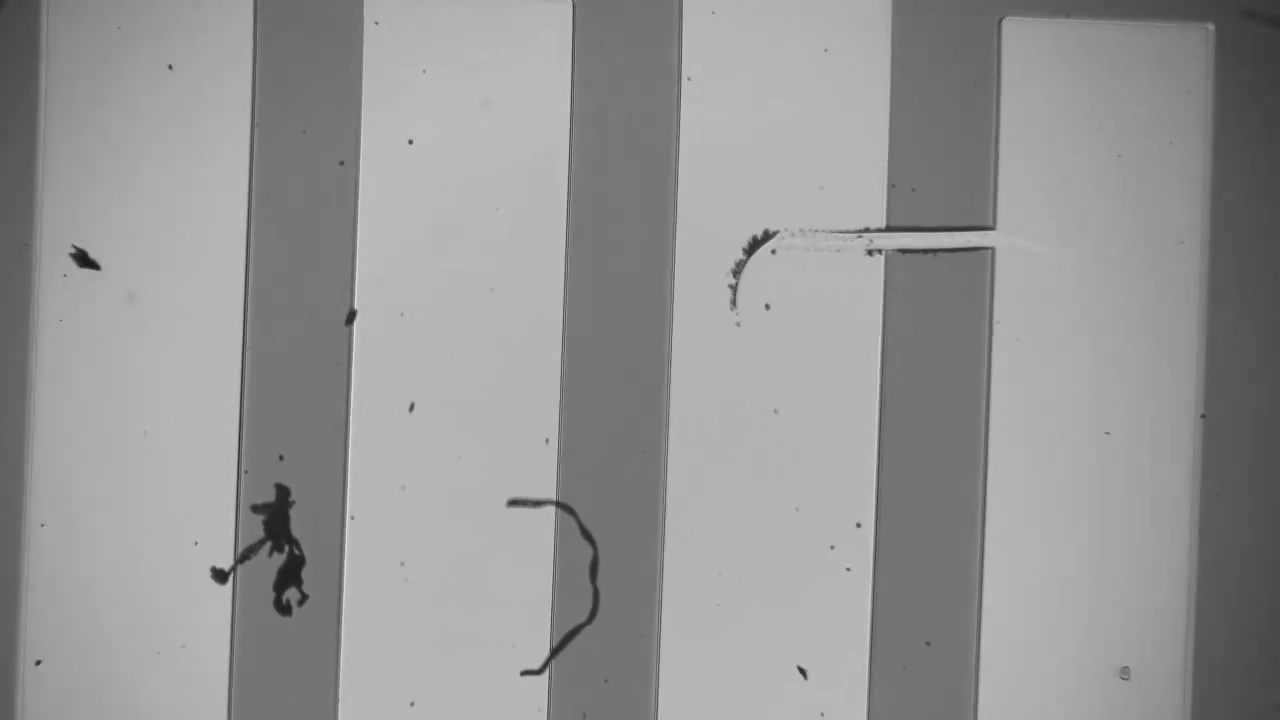Short_circuit: (846, 200, 1015, 280)
